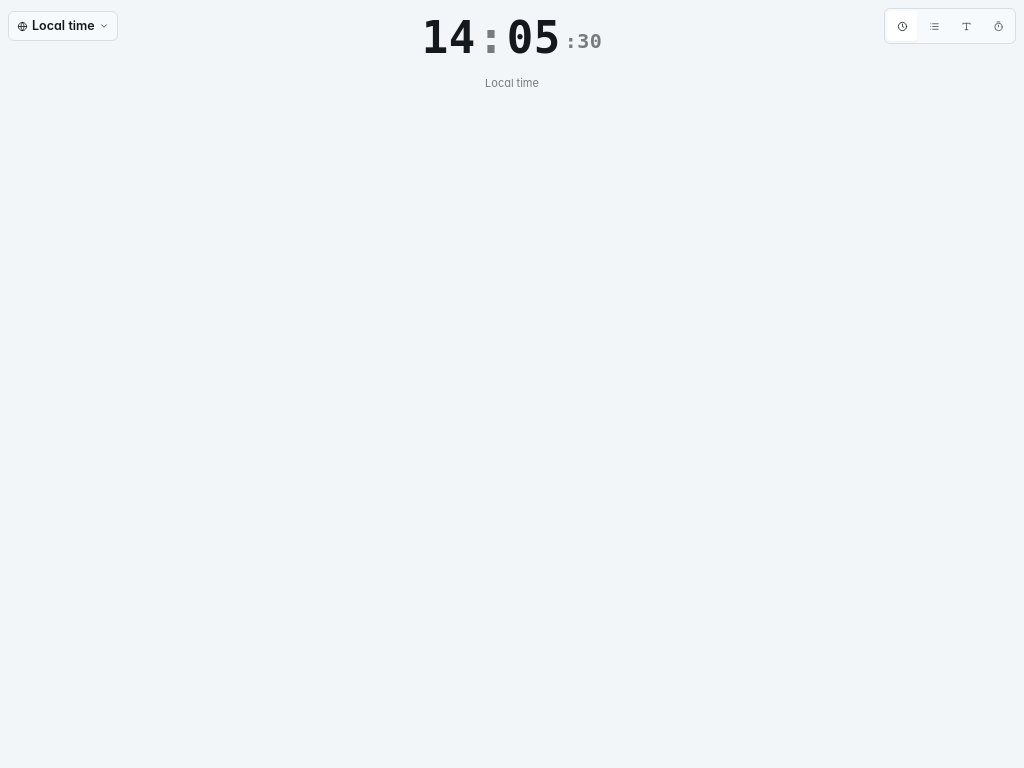
Test: AC-CLOCK: ClockWidget › AC-CLOCK-extra: clicking scrim closes popover without changing tz
What coordinates should you click on to do the following:
click the button with class "clk-tz-btn"
I would click on:
 (63, 26)
Its box is top-left (8, 11), bottom-right (118, 41).
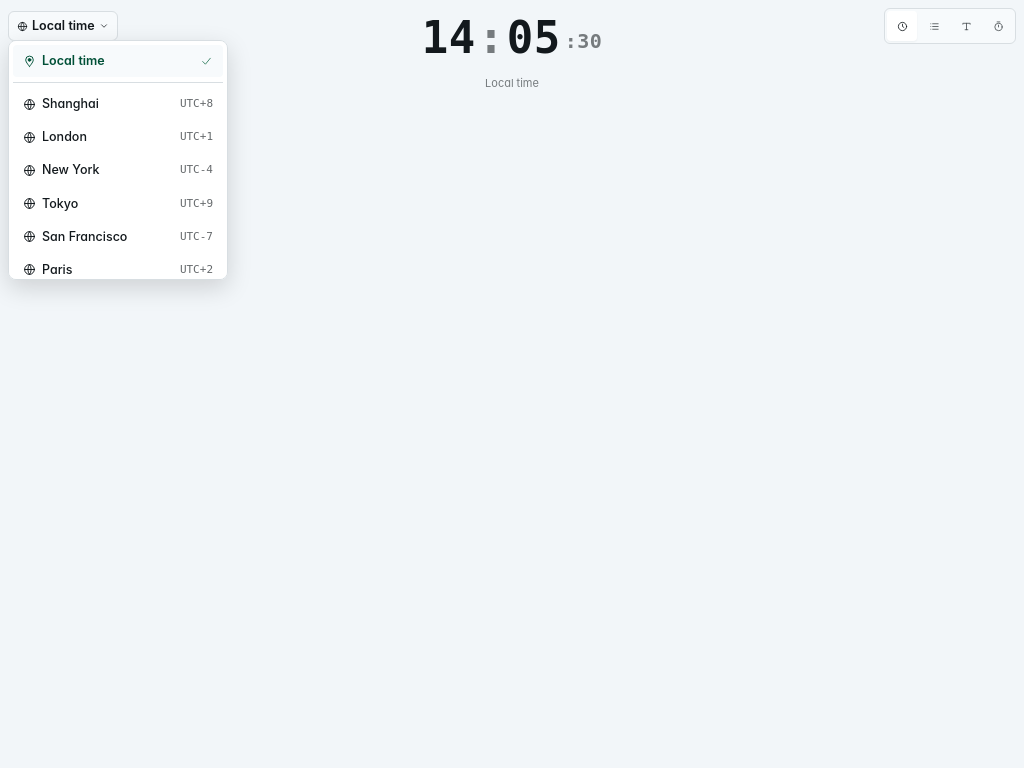
expect the element with class "clk-tz-popover" is shown: met, box top-left (8, 40), bottom-right (228, 280)
What coordinates should you click on to do the following:
click the element with class "popover-scrim"
I would click on:
 (512, 384)
Its box is top-left (0, 0), bottom-right (1023, 767).
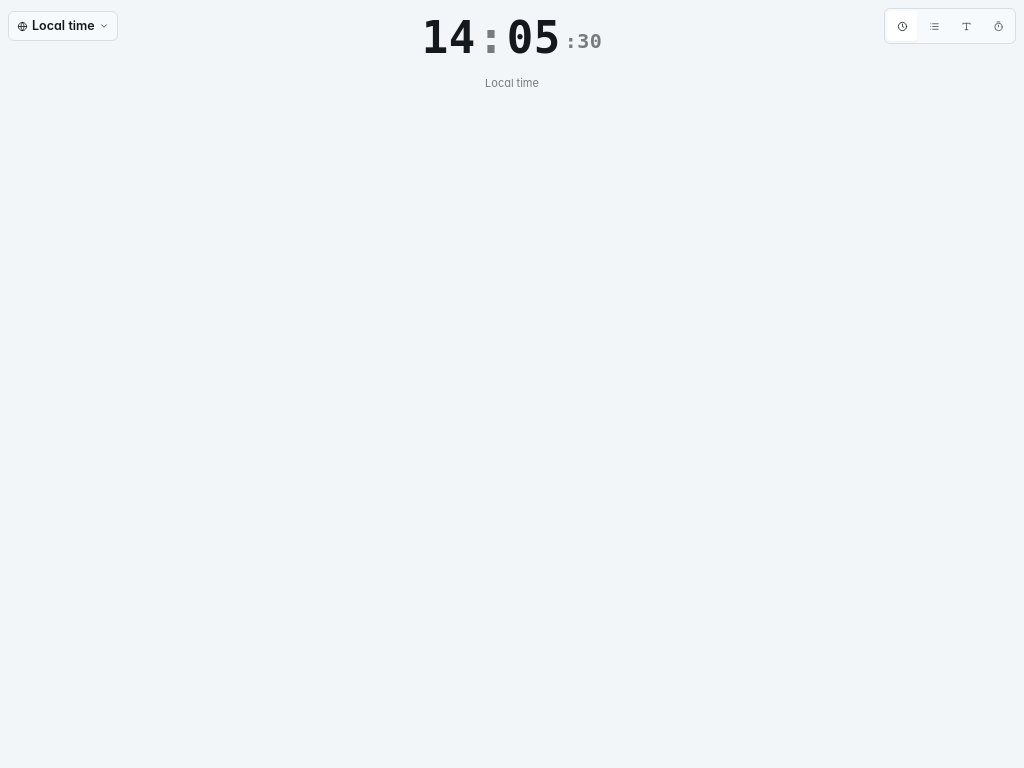
expect the element with class "clk-tz-popover" is gone: met
